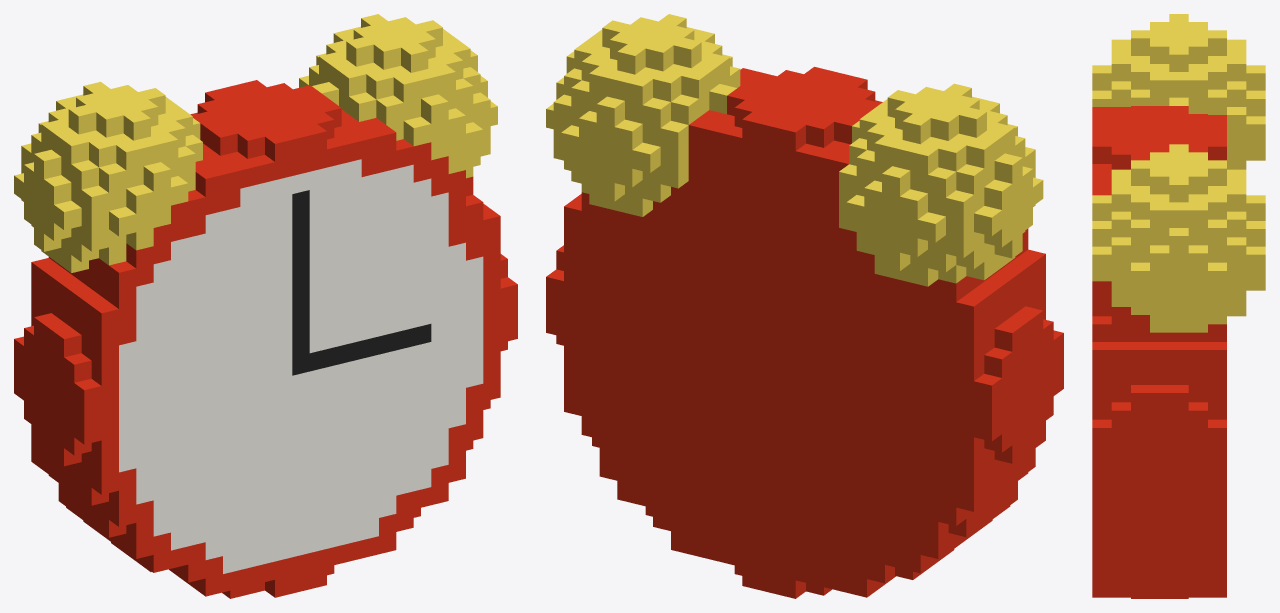
Rendered from untitled.vox.glb.
The picture shows the model from 3 angles, left to right: view 1: azimuth 30°, elevation 25°; view 2: azimuth 150°, elevation 25°; view 3: azimuth 270°, elevation 25°; orthographic projection. The views are drawn at different scales.
Bounding box in the file's own units: 2.5 × 2.7 × 0.9.
1 material, 1 textured.
